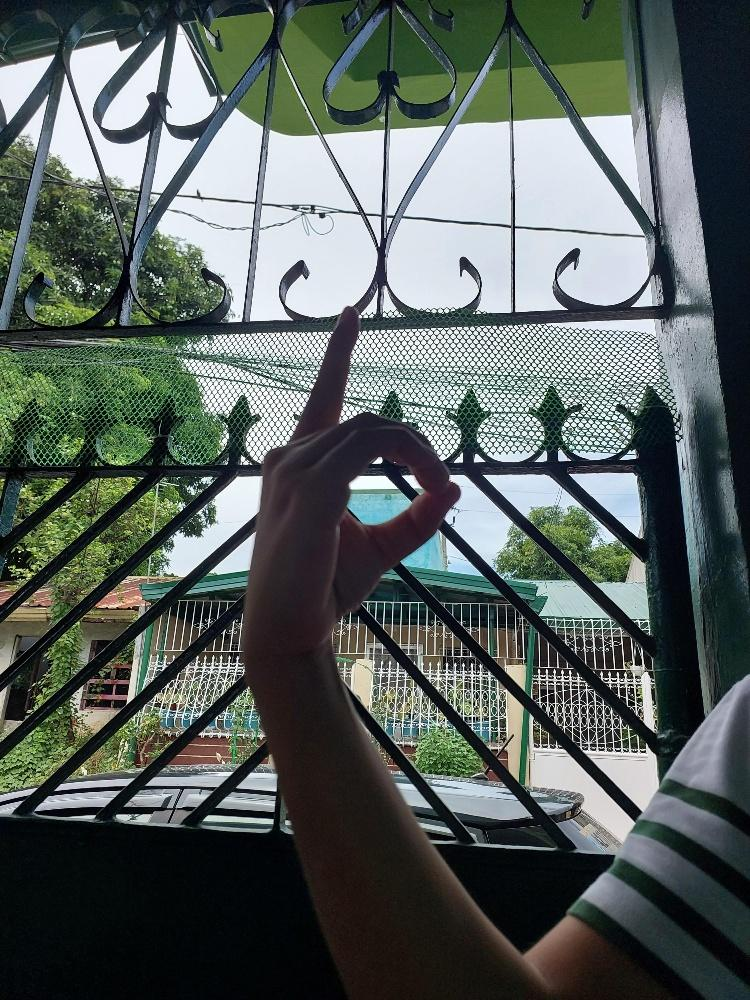d: (235, 299, 464, 665)
